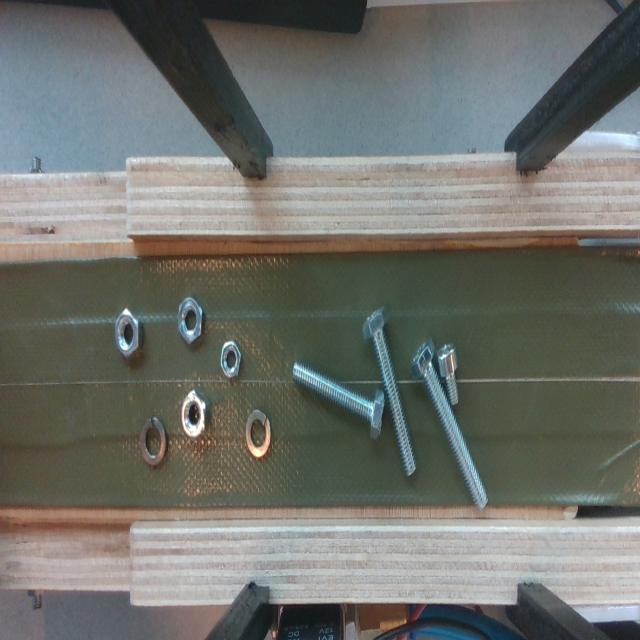Bolt: (404, 330, 496, 513), (358, 299, 422, 482), (290, 356, 393, 440), (433, 338, 464, 406)
Nut: (178, 386, 214, 444), (113, 307, 145, 361), (176, 293, 204, 346), (219, 336, 242, 382)
Washer: (242, 406, 276, 460), (140, 412, 169, 471)
